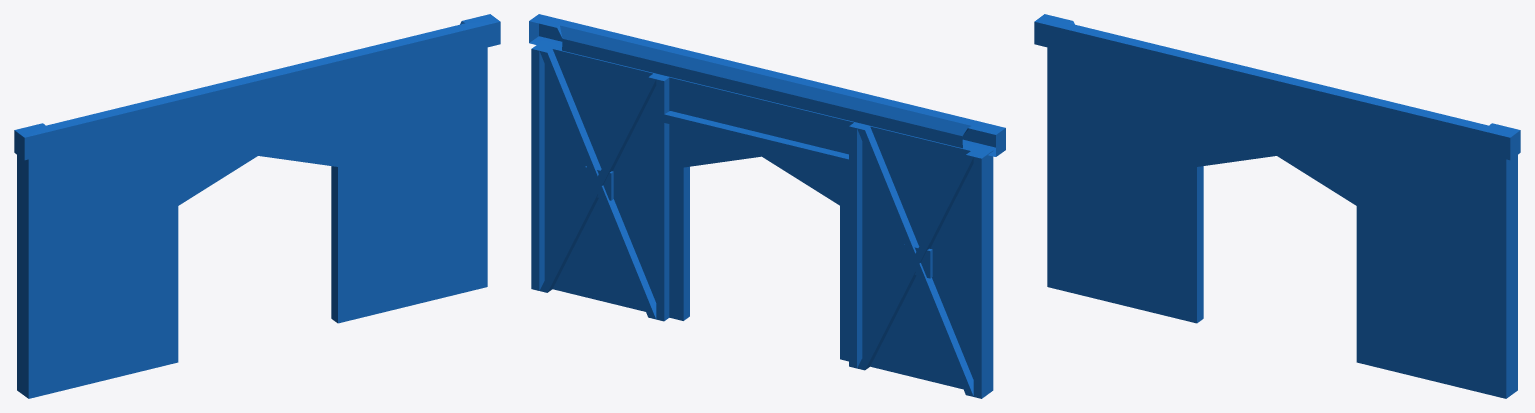
The model's file is SM_mini_wall1.fbx.
3 renders of one model, left to right at view 1: azimuth 30°, elevation 25°; view 2: azimuth 150°, elevation 25°; view 3: azimuth 330°, elevation 25°, orthographic.
Visible parts, largest first — view 1: mini_wall1; view 2: mini_wall1; view 3: mini_wall1.
Part boxes in pixels (x1,y1,x2,y2): mini_wall1: (14,14,500,398); mini_wall1: (529,14,1005,398); mini_wall1: (1034,14,1520,398).
Bounding box in the file's own units: 712 × 381 × 41.91.
